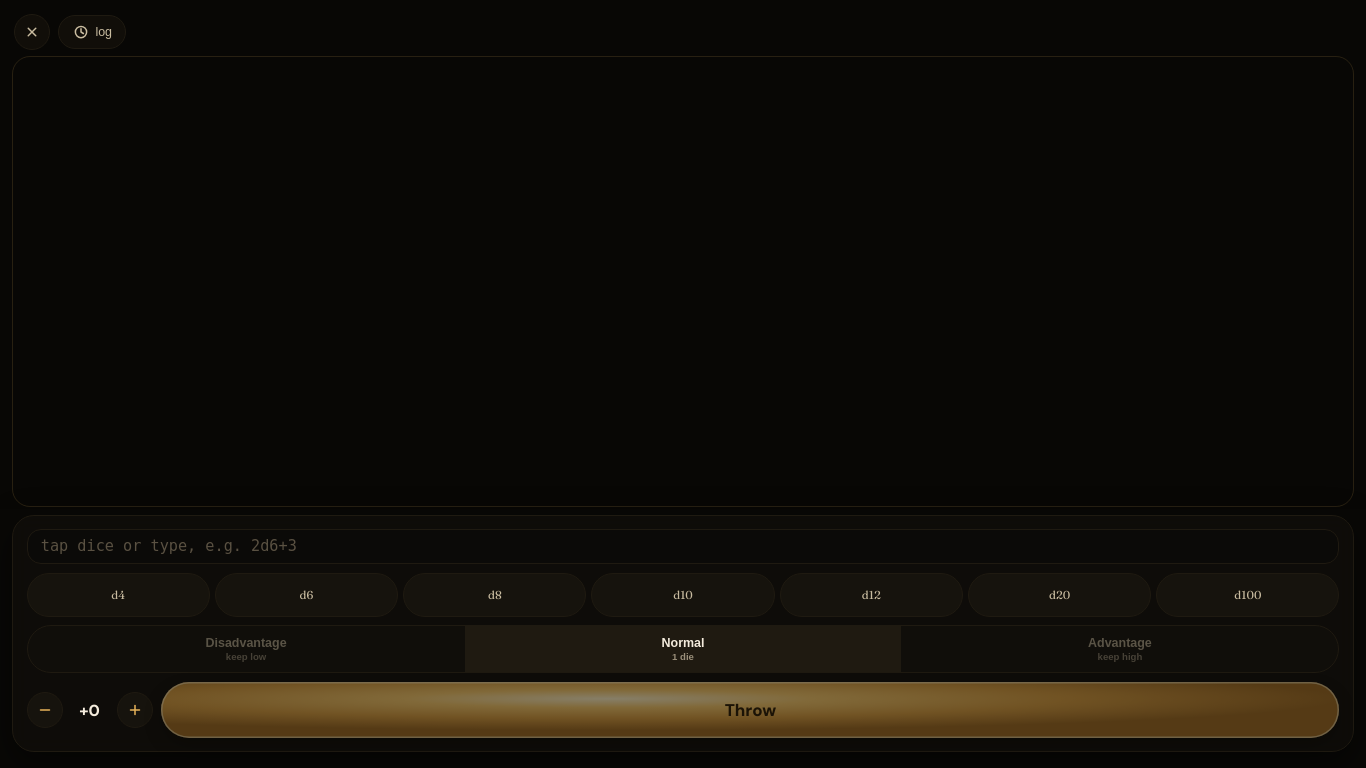
Test case: DiceTray › clears the rendered result after applying as heal (no stale roll on reopen)
Step 1. Click the button named "Add d20" → {"x": 1060, "y": 595}, box left=968, top=573, right=1151, bottom=617
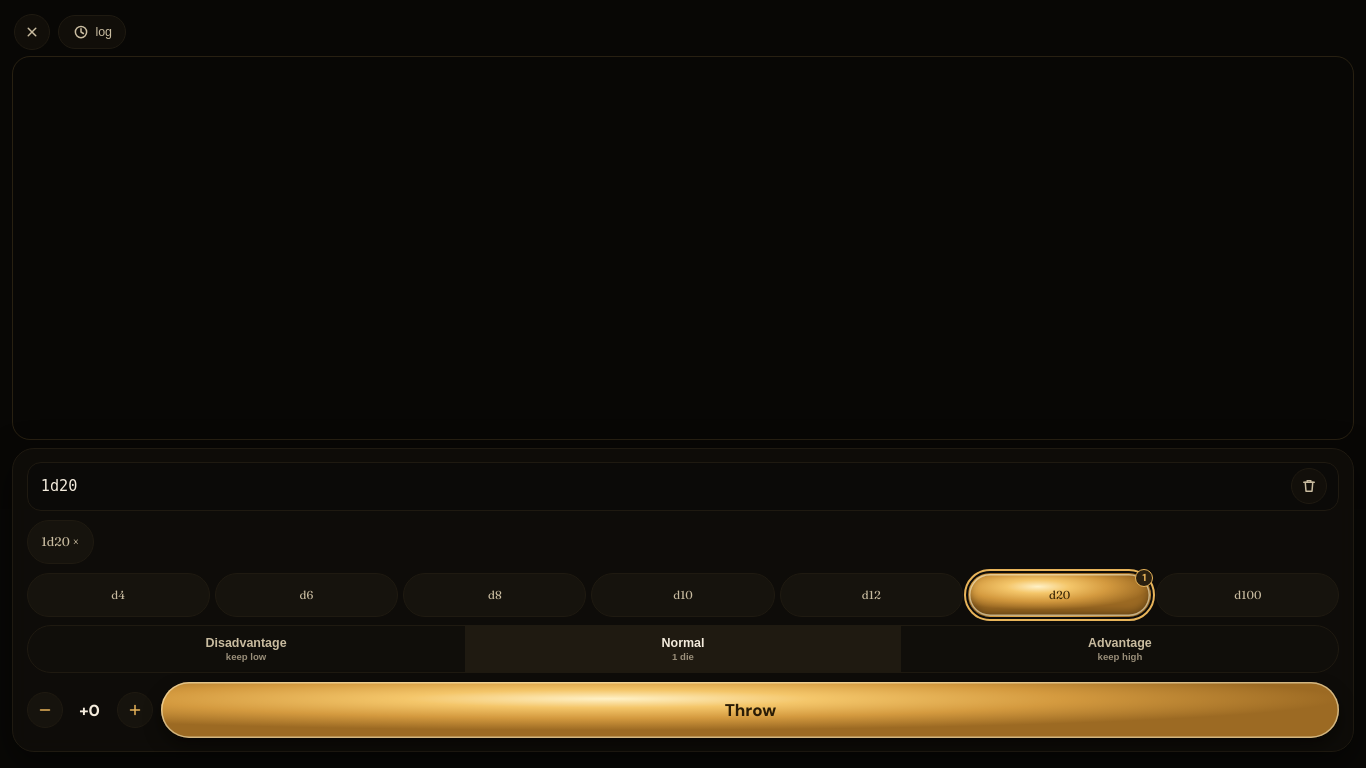
Step 2. Click the button "Throw" → {"x": 750, "y": 710}, box left=161, top=682, right=1339, bottom=738
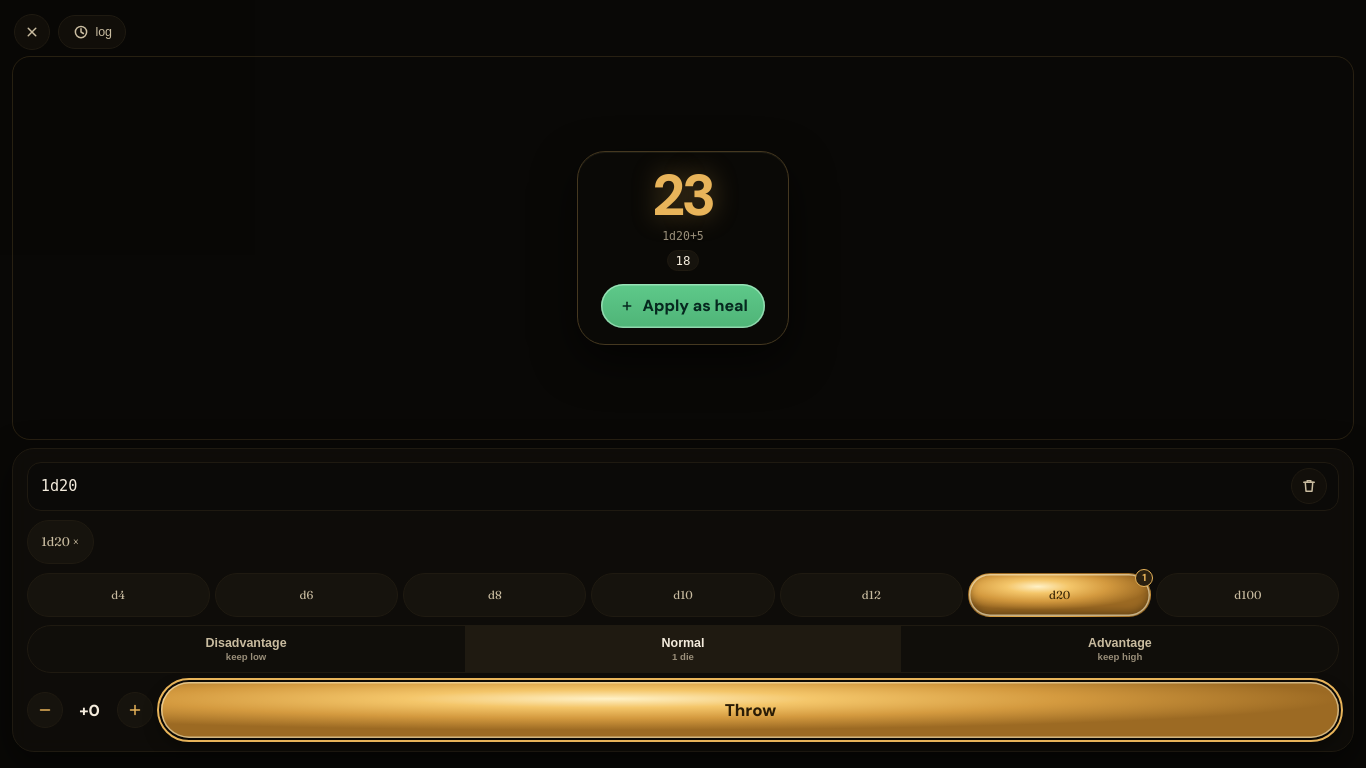
Expected: the text "23" is shown, left=653, top=166, right=712, bottom=224
Step 3. Click the button "Apply as heal" → {"x": 683, "y": 306}, box left=600, top=284, right=765, bottom=328
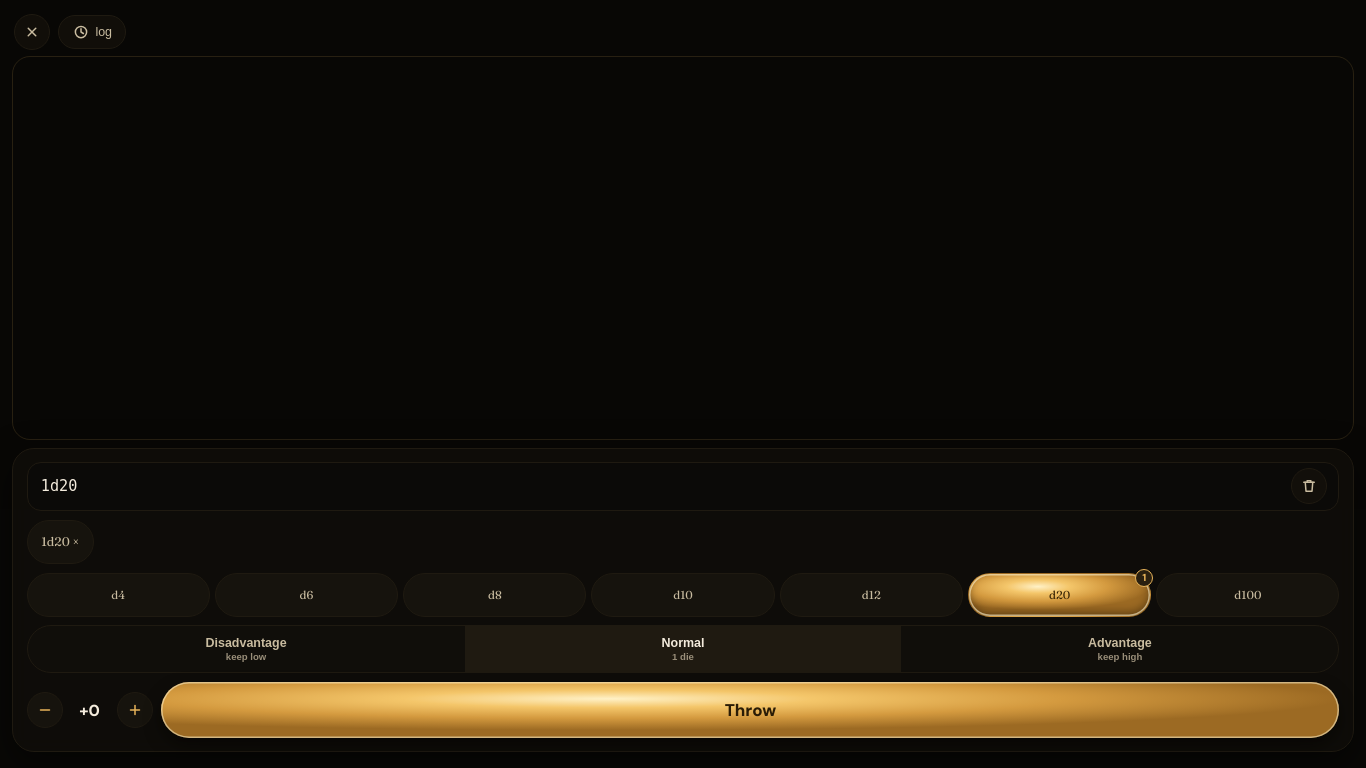
Expected: the text "23" is gone
